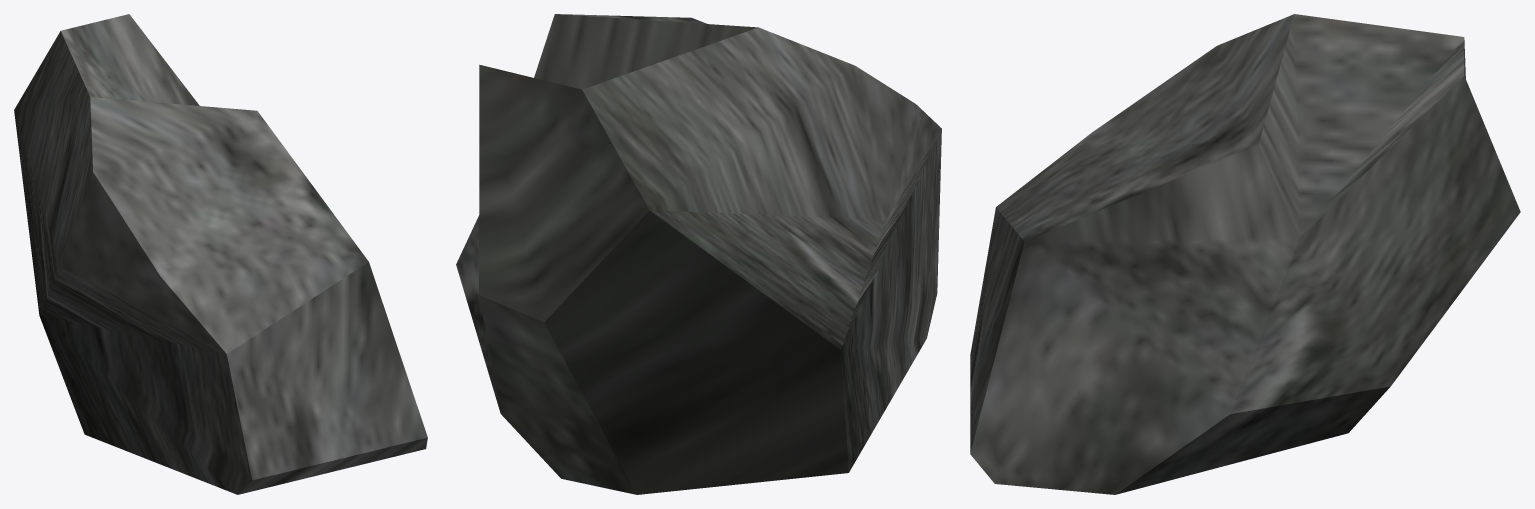
The model's file is Rock.fbx.
3 renders of one model, left to right at view 1: azimuth 30°, elevation 25°; view 2: azimuth 150°, elevation 25°; view 3: azimuth 270°, elevation 25°, orthographic. The views are drawn at different scales.
Visible parts, largest first — view 1: Rock; view 2: Rock; view 3: Rock.
Part boxes in pixels (box(x1,y1,x2,y2)): Rock: box(14, 14, 427, 494); Rock: box(456, 14, 941, 494); Rock: box(970, 14, 1520, 494).
Bounding box in the file's own units: 367 × 382 × 529.
